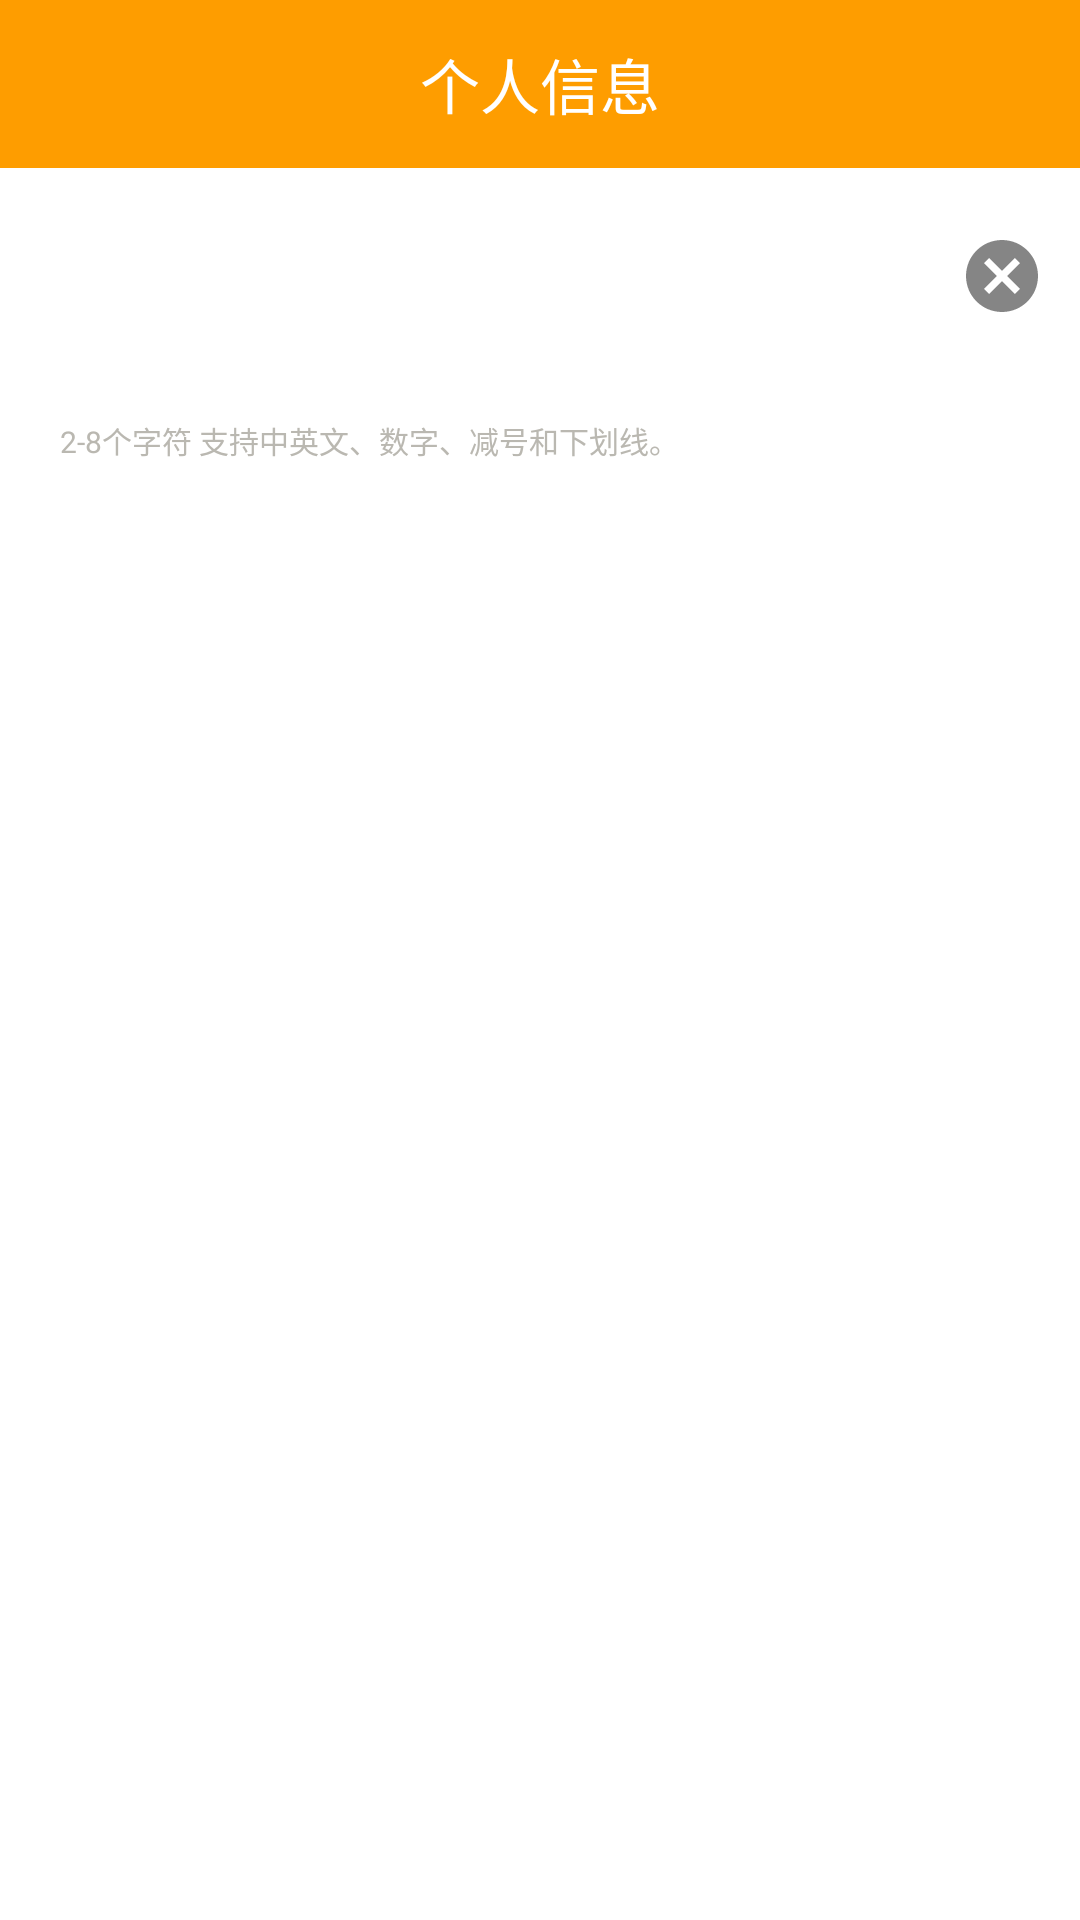

Icon bounding boxes for this 1080*1920 phone screenshot, format [x1=x1, y1=y1, x2=x2, y2=y2]:
cancel: [x1=966, y1=240, x2=1038, y2=312]
